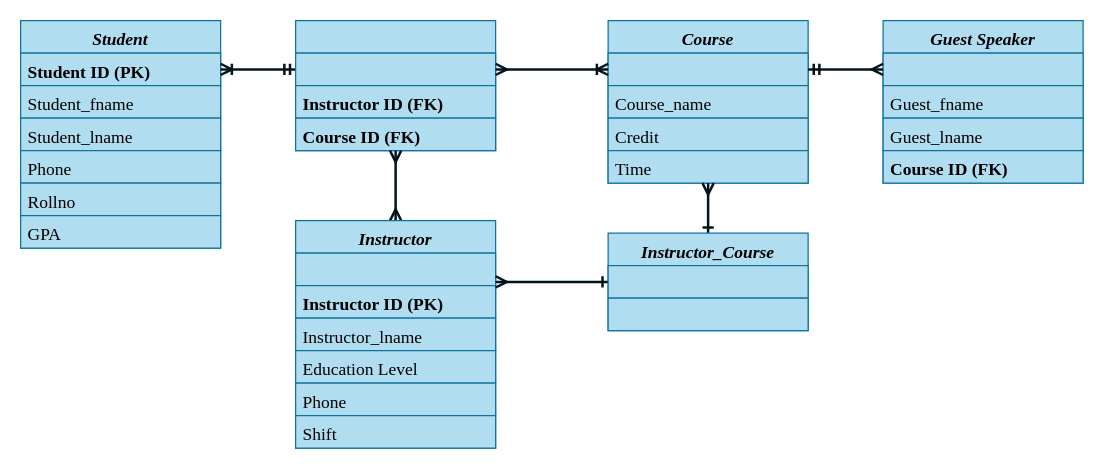
Some shapes in this 1104 by 469 pixel diagram are drawn without their labels. The box of each missing label's shape, as (x1, y1, x2, y2) in pixels:
Course ID (PK): (607, 52, 808, 86)
Course_ID (FK): (607, 297, 808, 331)
Enrolled: (294, 19, 496, 151)
Guestspeaker ID (PK): (882, 52, 1083, 86)
Instructor_fname: (294, 252, 496, 286)
Instructor_ID (FK): (607, 264, 808, 298)
Student ID (FK): (294, 52, 496, 86)
